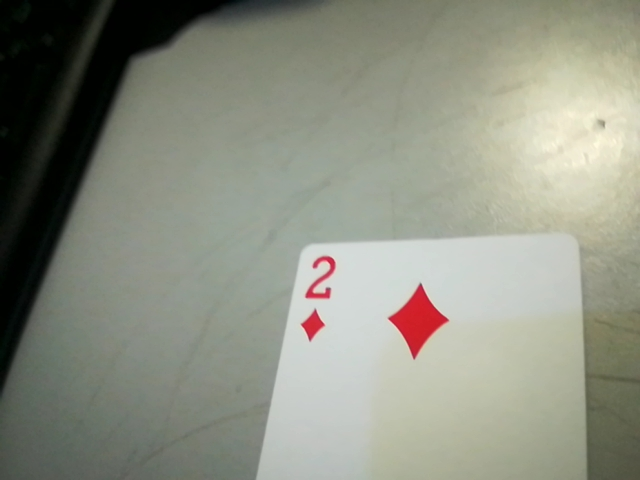fk 2: (288, 249, 350, 349)
